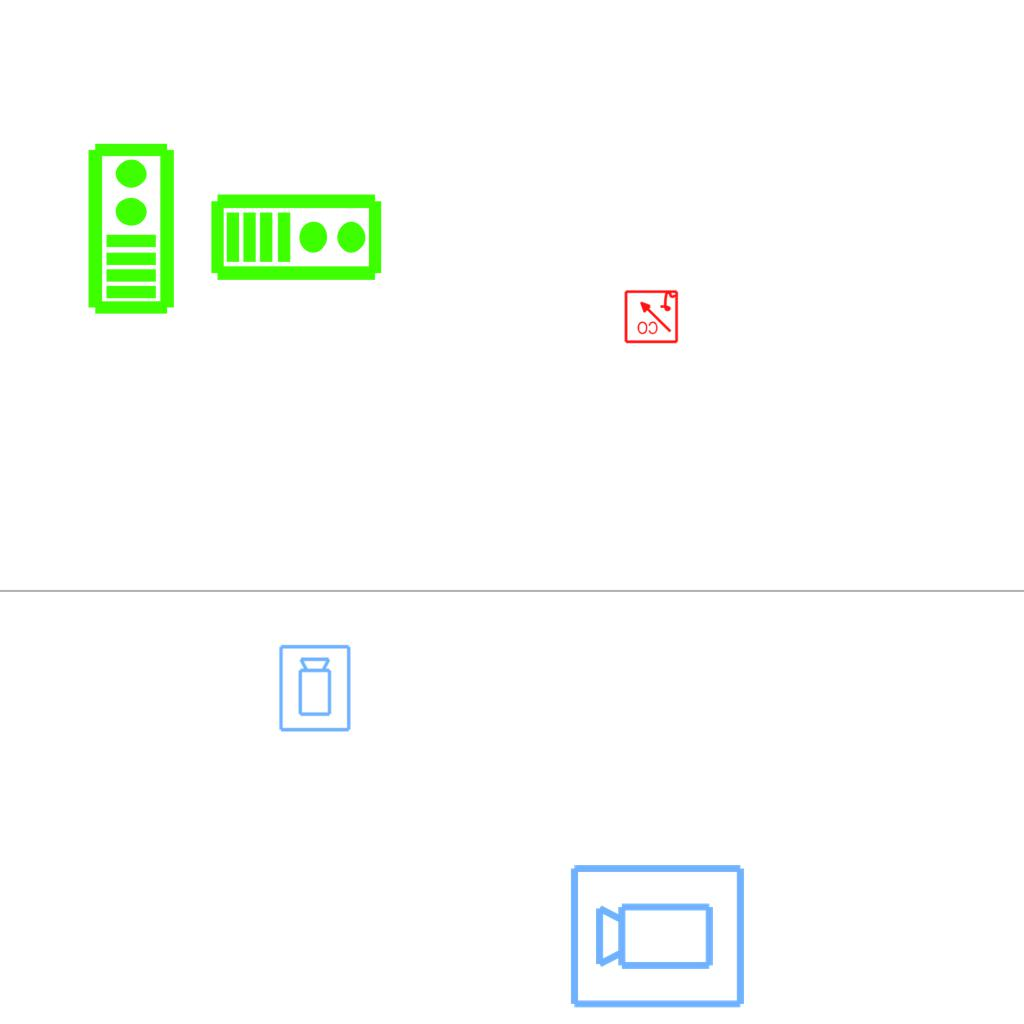Gegensprechanlage_mit_Video: (209, 188, 385, 283), (82, 140, 177, 316)
KFO_Kamera_mit_Festobjektiv: (567, 858, 749, 1012), (277, 643, 354, 734)
ROA_Rauchmelder_optisch_mit_Signalgeber_(Sockelsirene): (623, 288, 679, 344)
